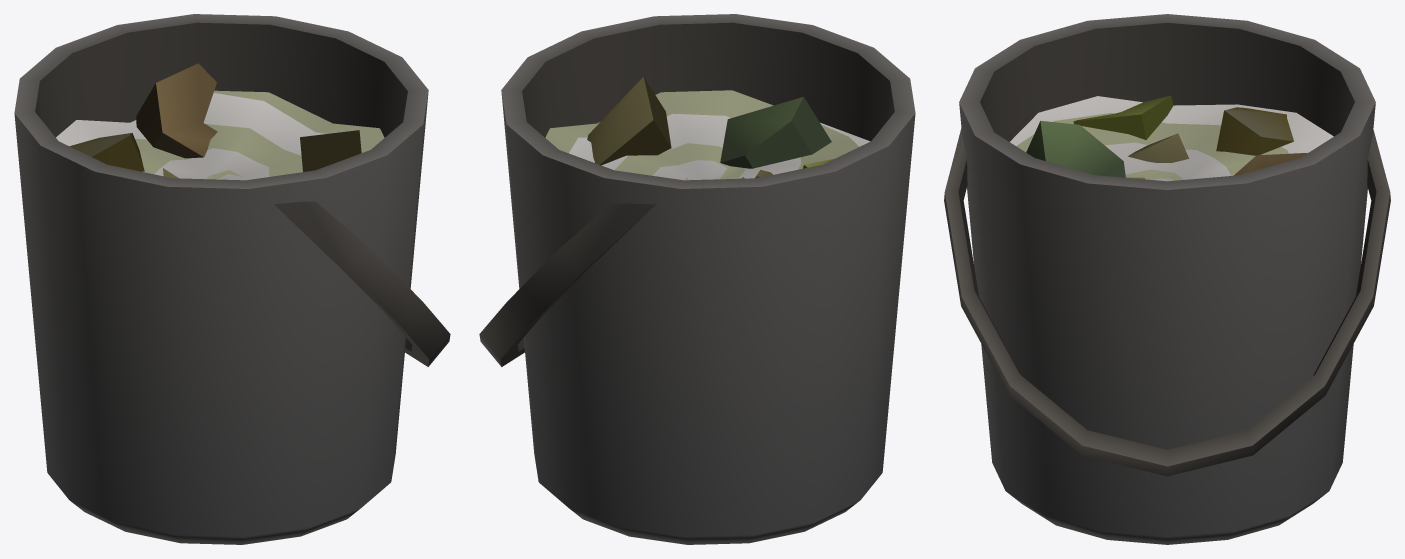
Rendered from grenade_Pail.glb.
The picture shows the model from 3 angles, left to right: view 1: azimuth 30°, elevation 25°; view 2: azimuth 150°, elevation 25°; view 3: azimuth 270°, elevation 25°; orthographic projection.
Parts seen in each view (by area): view 1: grenade_Pail; view 2: grenade_Pail; view 3: grenade_Pail.
Boxes of the visible parts, <box> form: grenade_Pail: <box>14,14,450,544</box>; grenade_Pail: <box>479,14,915,544</box>; grenade_Pail: <box>944,14,1390,544</box>.
Size of the model in its own units: 0.1479 by 0.1409 by 0.1516.
